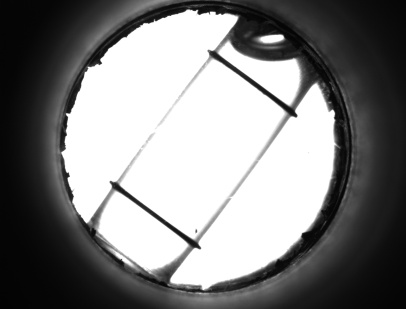line: (120, 198, 186, 230), (222, 67, 287, 98)
